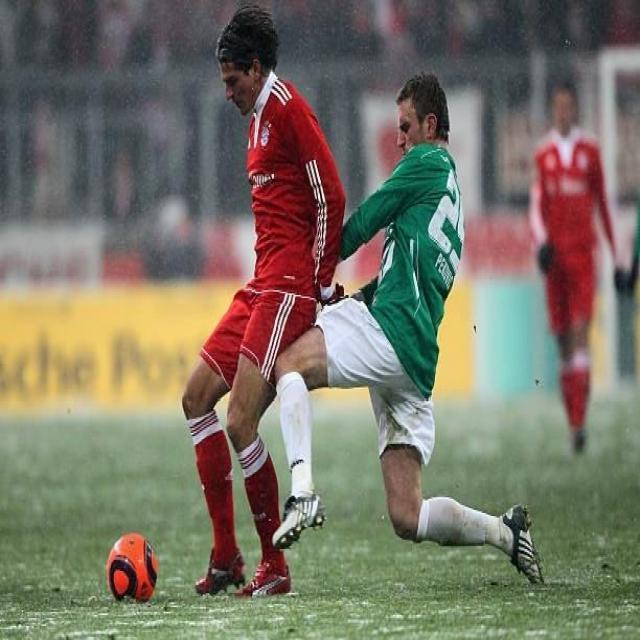ball: (101, 526, 161, 611)
player: (285, 68, 551, 597), (182, 1, 335, 604), (529, 77, 606, 467)
